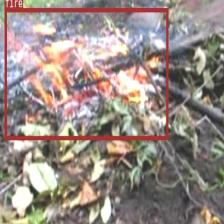fire: (4, 8, 168, 139)
